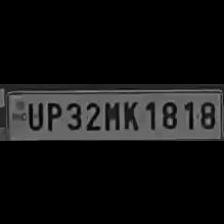1: (140, 97, 158, 130), (180, 96, 196, 130)
2: (83, 97, 101, 130)
3: (62, 98, 82, 130)
8: (157, 96, 179, 130), (196, 97, 216, 128)
K: (120, 97, 140, 130)
M: (101, 97, 119, 130)
P: (44, 97, 62, 130)
U: (24, 98, 42, 130)
